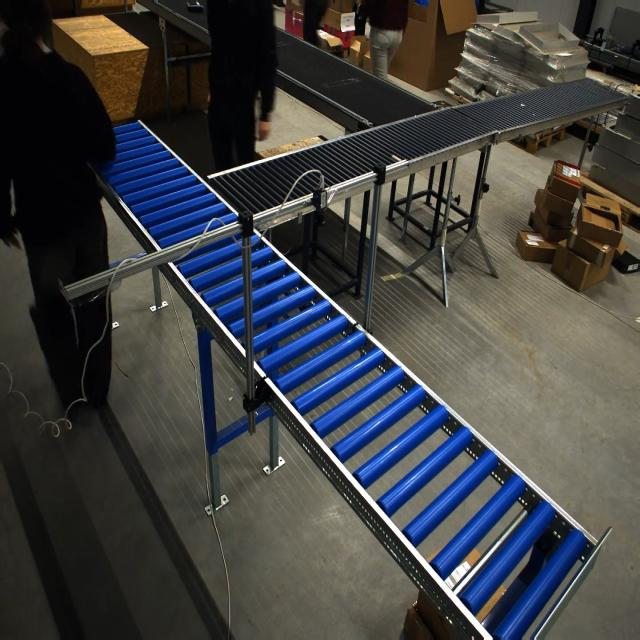product: (186, 1, 204, 12)
